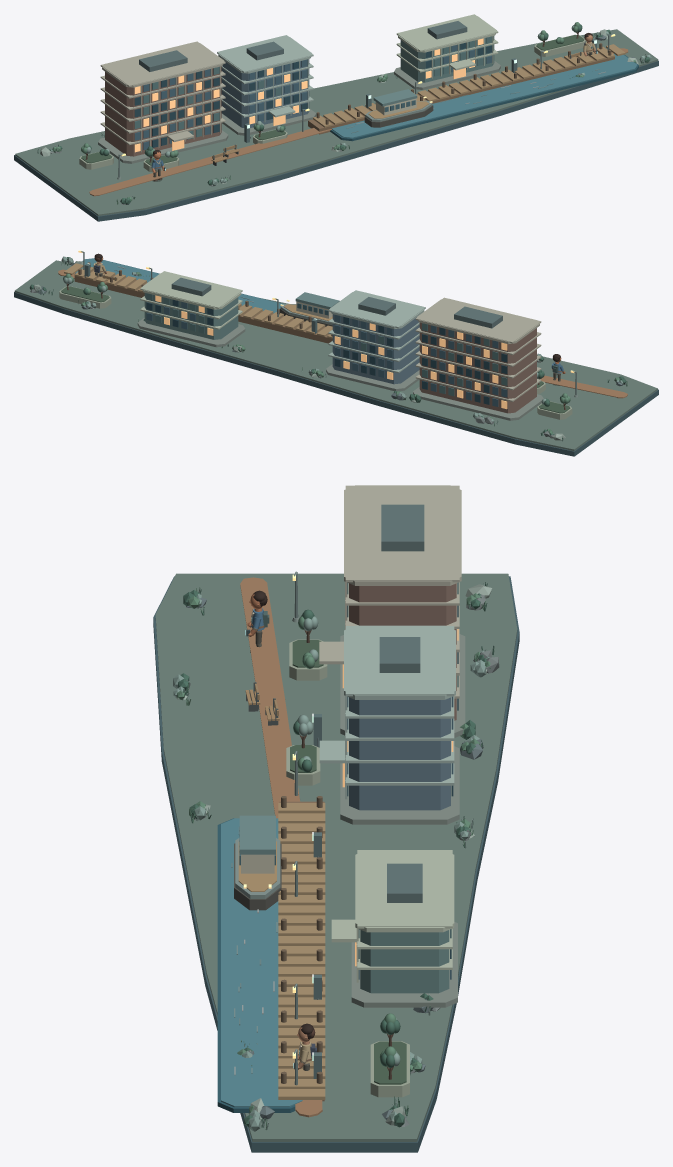
Rendered from helsinki.glb.
3 views of the same model, one above another, from view 1: azimuth 30°, elevation 25°; view 2: azimuth 150°, elevation 25°; view 3: azimuth 270°, elevation 25° (orthographic). The views are drawn at different scales.
Visible parts, largest first — view 1: TerrainAndBuildings, FerryBoatPivot; view 2: TerrainAndBuildings, FerryBoatPivot; view 3: TerrainAndBuildings, FerryBoatPivot.
Part boxes in pixels (x1,y1,x2,y2): TerrainAndBuildings: (14, 14, 658, 221); FerryBoatPivot: (364, 89, 433, 127); TerrainAndBuildings: (14, 250, 658, 456); FerryBoatPivot: (280, 292, 339, 326); TerrainAndBuildings: (153, 485, 519, 1152); FerryBoatPivot: (234, 815, 281, 910).
Size of the model in its own units: 1.73 by 0.2594 by 0.4717.
